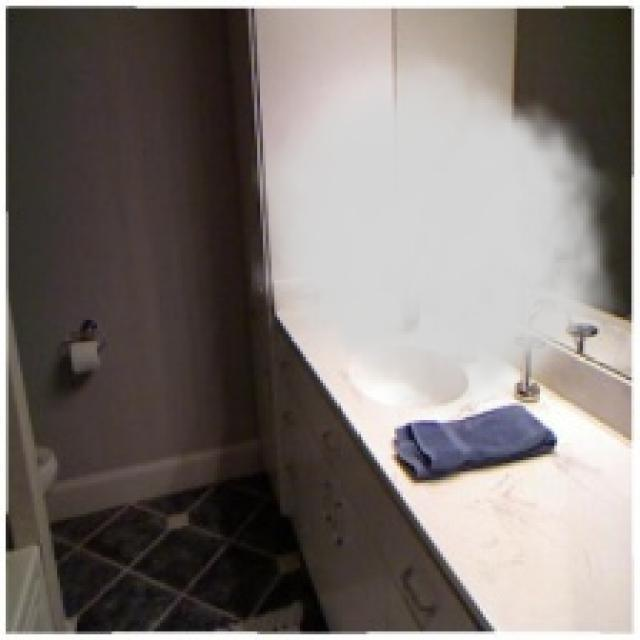Smoke: (252, 42, 632, 428)
